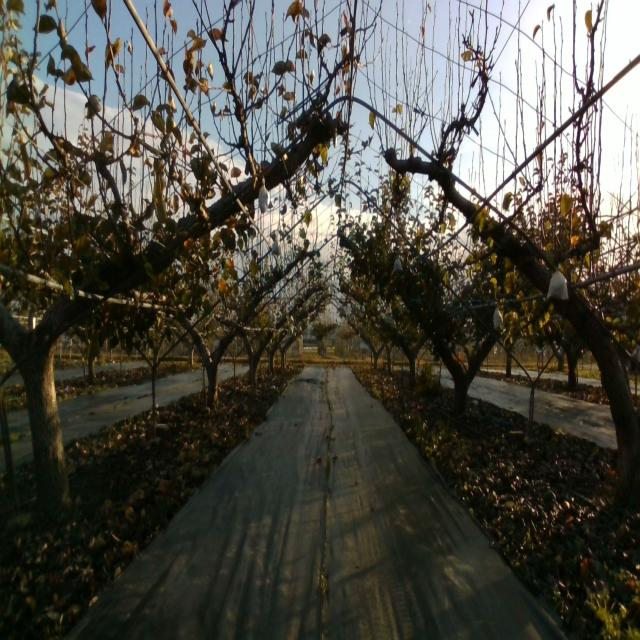pearbags: (546, 262, 569, 300), (258, 178, 270, 213), (271, 236, 283, 256), (492, 308, 503, 329)
